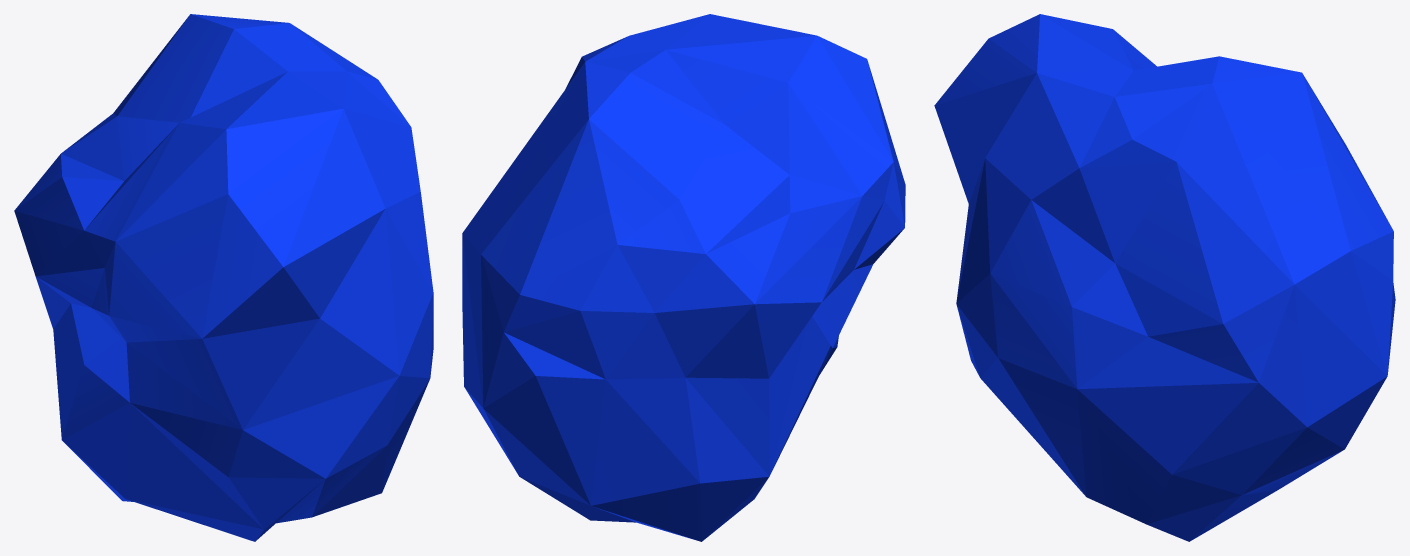
Rendered from SM_emissive_rock_01.fbx.
The picture shows the model from 3 angles, left to right: view 1: azimuth 30°, elevation 25°; view 2: azimuth 150°, elevation 25°; view 3: azimuth 270°, elevation 25°; orthographic projection. The views are drawn at different scales.
Visible parts, largest first — view 1: emissive_rock_01; view 2: emissive_rock_01; view 3: emissive_rock_01.
Part boxes in pixels (x1,y1,x2,y2): emissive_rock_01: (14,14,433,541); emissive_rock_01: (462,14,905,541); emissive_rock_01: (934,14,1395,541).
Bounding box in the file's own units: 149 × 190 × 173.
